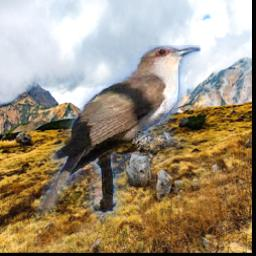Cuckoo: (31, 46, 202, 230)
